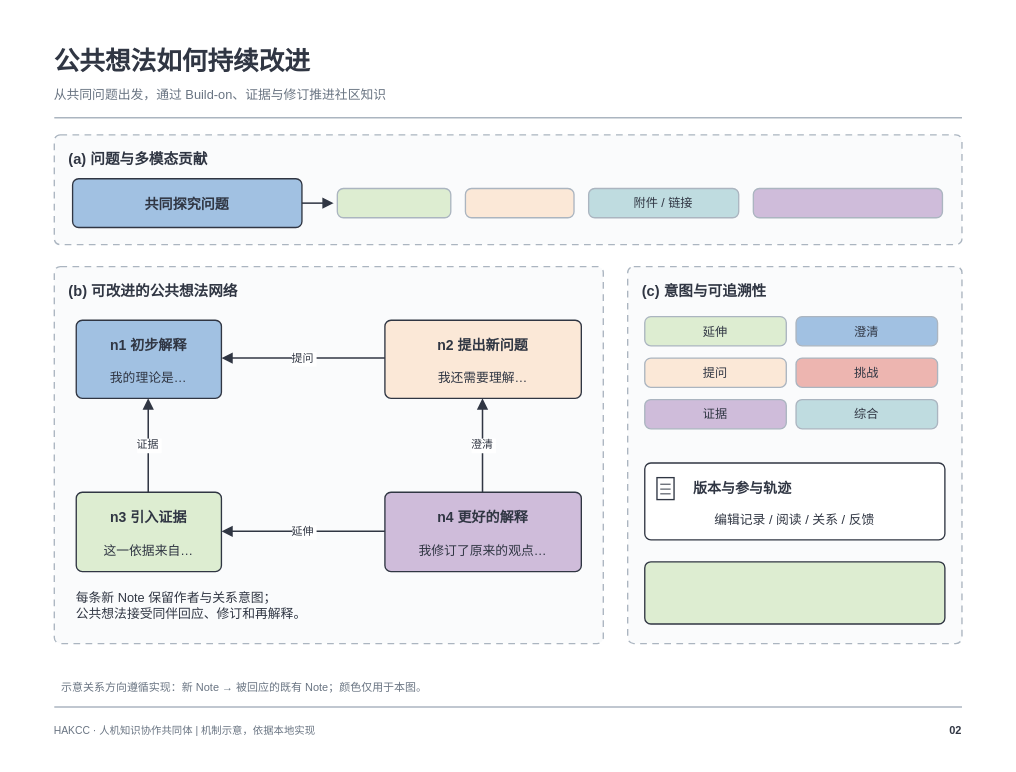
Image size: 1016x772. Some labels were removed from this diagram. The shapes that lost their labels are listed below. From the top down, each one's centre as x and y in pixels, then its label:
At point 393,202: "文本 Note".
At point 519,202: "绘图".
At point 847,202: "认识论支架".
At point 794,592: "潜力想法与知识缺口".
